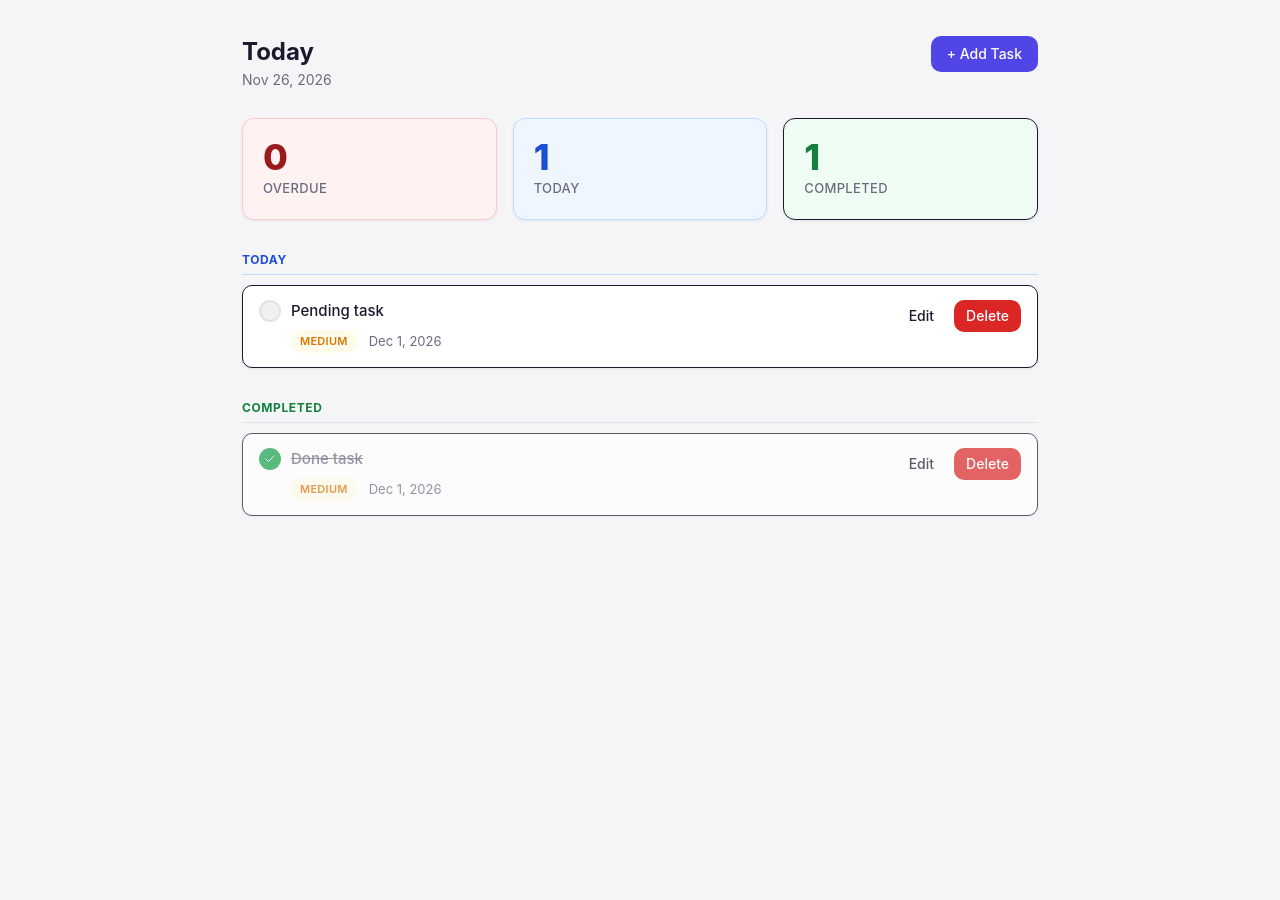
Test: task write flows at the api boundary › does not call the create api when client validation fails
Expected: the text "Pending task" is shown, [291, 300, 384, 322]
What coordinates should you click on to do the following:
click the button "+ Add Task"
I would click on:
 (984, 54)
Its box is [931, 36, 1038, 72].
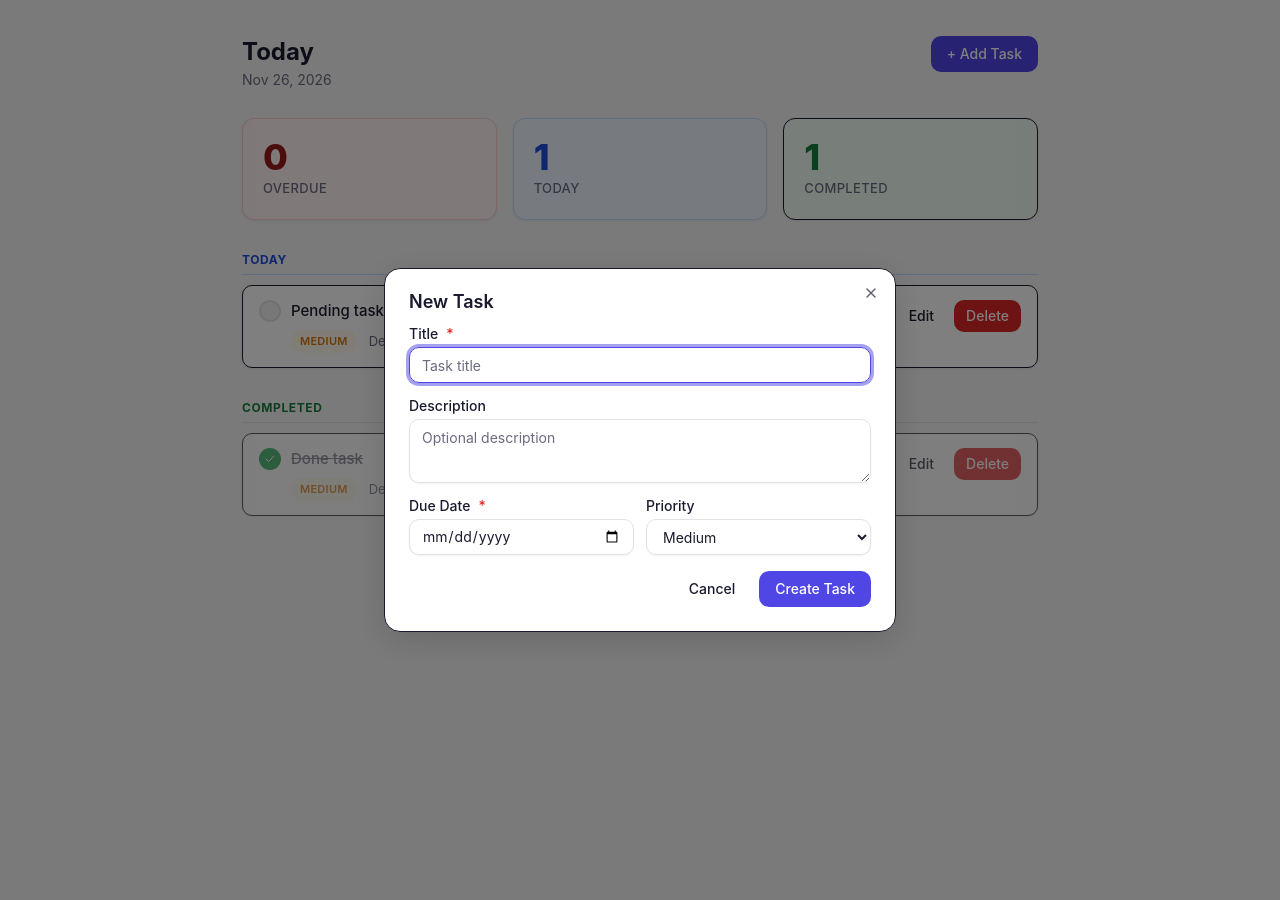
What coordinates should you click on to do the following:
click the button "Create Task"
I would click on:
 (815, 589)
Its box is [759, 571, 871, 607].
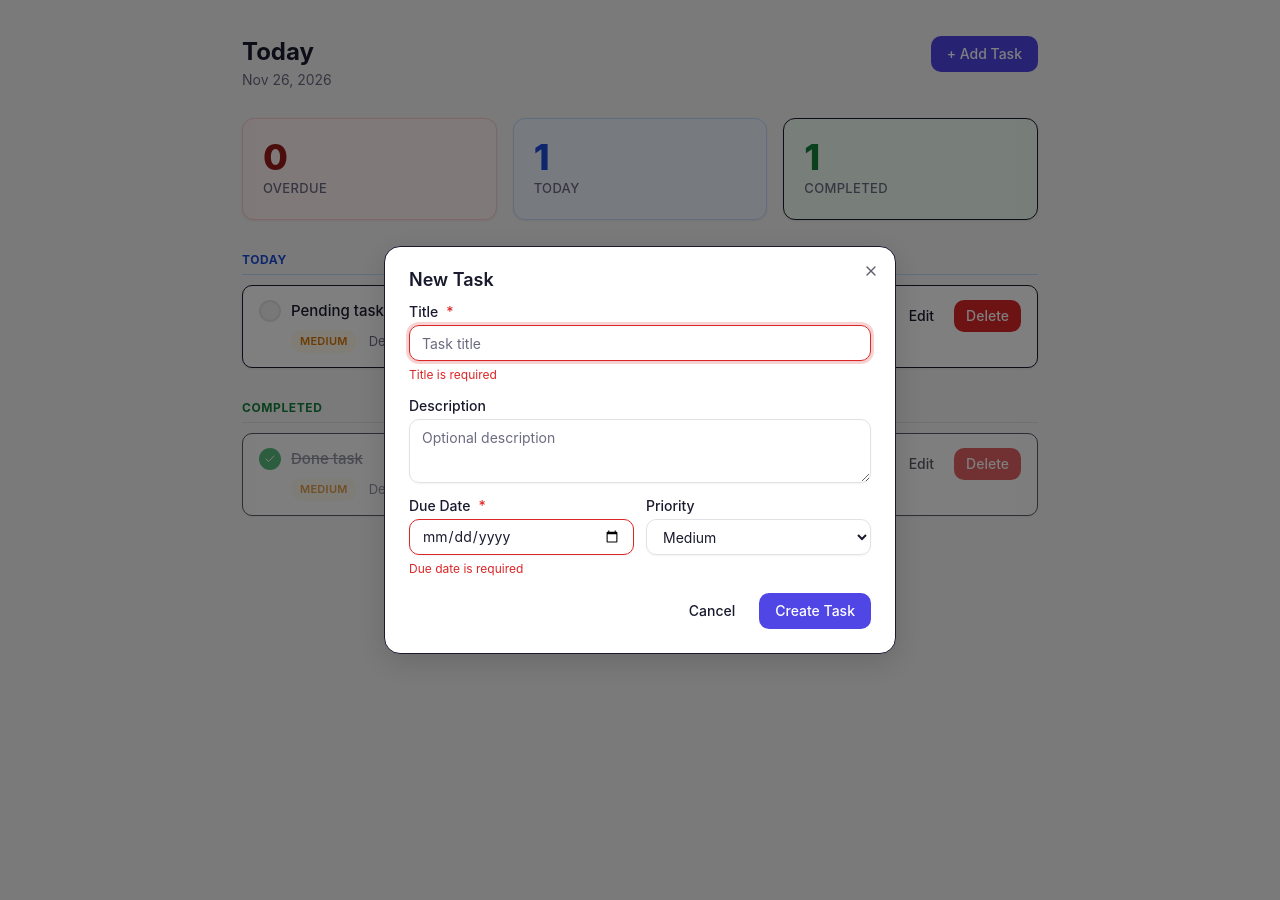
Now the text "Title is required" is shown, box [409, 367, 497, 382]
